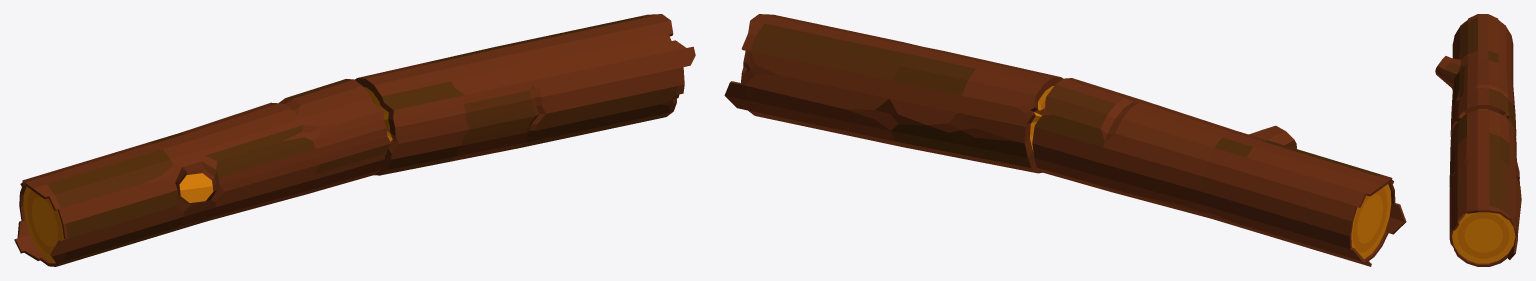
Rendered from Broken log_30.fbx.
3 renders of one model, left to right at view 1: azimuth 30°, elevation 25°; view 2: azimuth 150°, elevation 25°; view 3: azimuth 270°, elevation 25°, orthographic. The views are drawn at different scales.
Visible parts, largest first — view 1: Circle.402, Circle.399; view 2: Circle.402, Circle.399; view 3: Circle.399, Circle.402.
Part boxes in pixels (x1,y1,x2,y2): Circle.402: (14, 79, 391, 266); Circle.399: (354, 14, 695, 175); Circle.402: (1032, 78, 1406, 266); Circle.399: (724, 14, 1063, 173); Circle.399: (1449, 110, 1521, 266); Circle.402: (1435, 14, 1516, 136).
Bounding box in the file's own units: 221 × 33.99 × 38.98.
